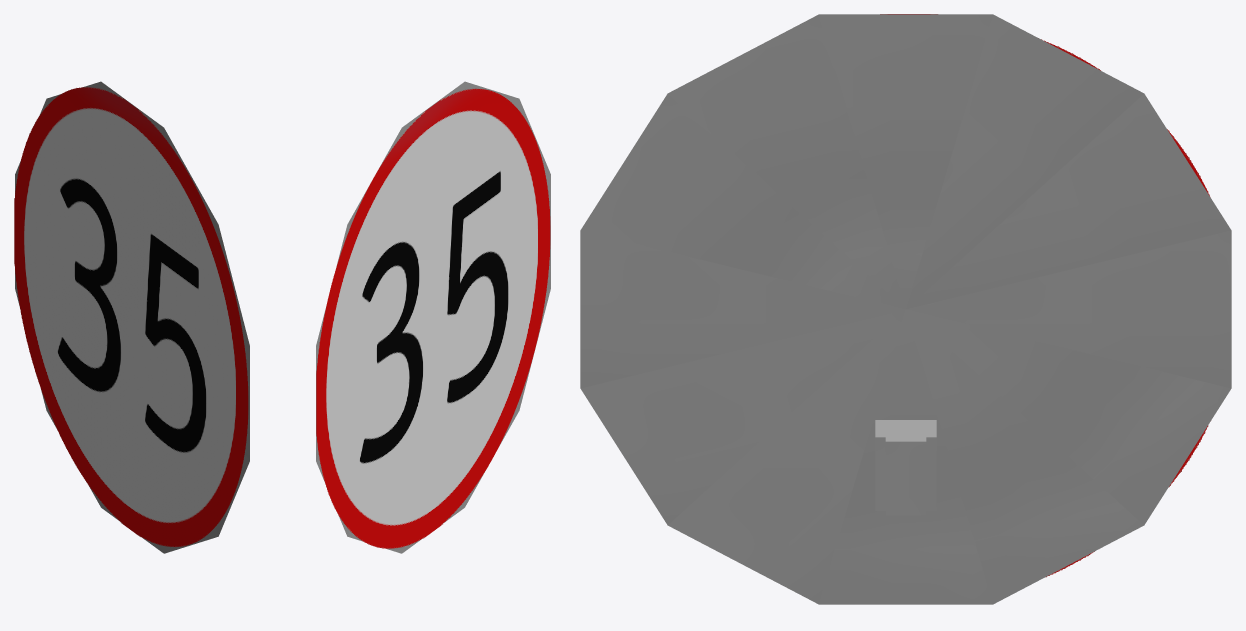
File: speed_35_large.obj
3 views of the same model, side by side, from view 1: azimuth 30°, elevation 25°; view 2: azimuth 150°, elevation 25°; view 3: azimuth 270°, elevation 25° (orthographic). The views are drawn at different scales.
Visible parts, largest first — view 1: cube, circle; view 2: cube, circle; view 3: circle, cube.
Boxes of the visible parts, bbox=[...] form: cube: bbox=[14, 87, 248, 547]; circle: bbox=[15, 81, 249, 553]; cube: bbox=[316, 88, 550, 548]; circle: bbox=[316, 81, 550, 553]; circle: bbox=[580, 14, 1231, 604]; cube: bbox=[875, 14, 1209, 577].
Bounding box in the file's own units: 0.0797 × 1 × 1.
2 materials, 2 textured.
